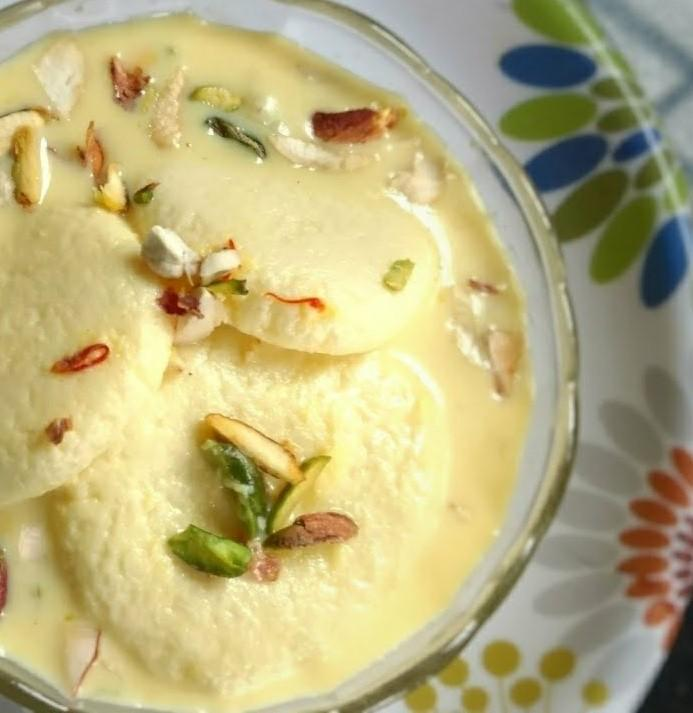RasMalai: (0, 6, 532, 713)
